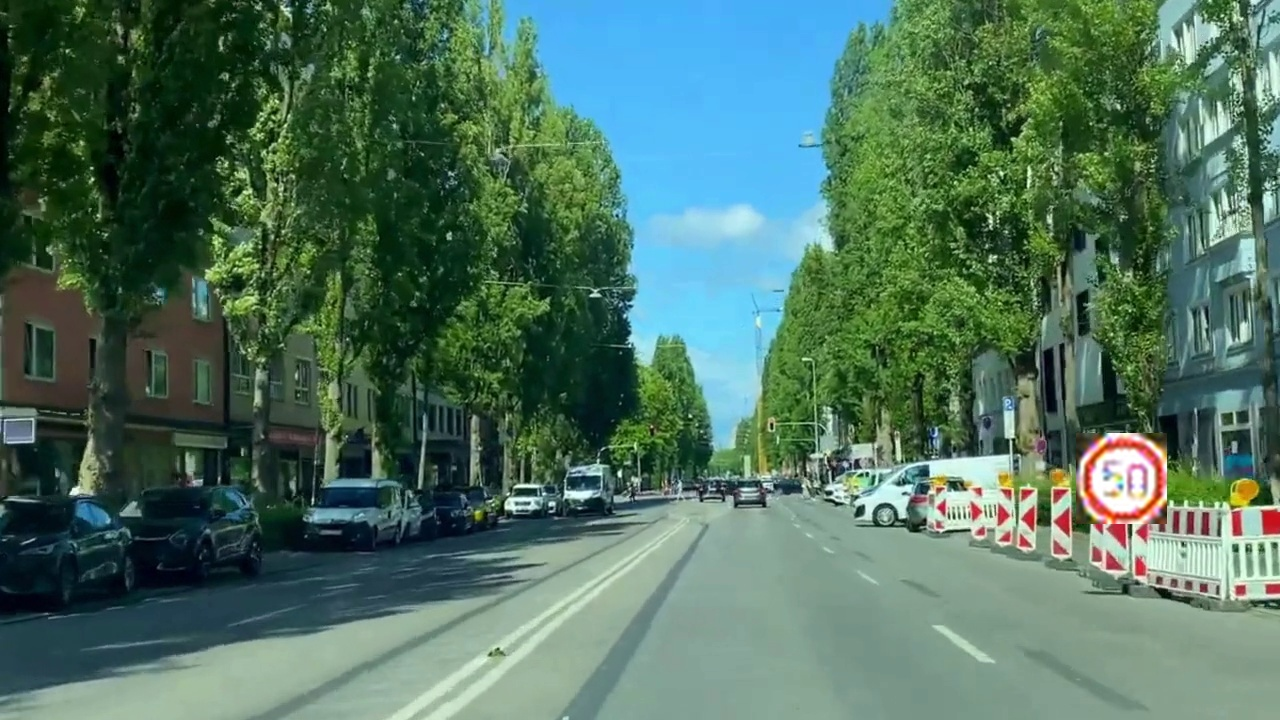Speed 50: (1076, 433, 1167, 524)
